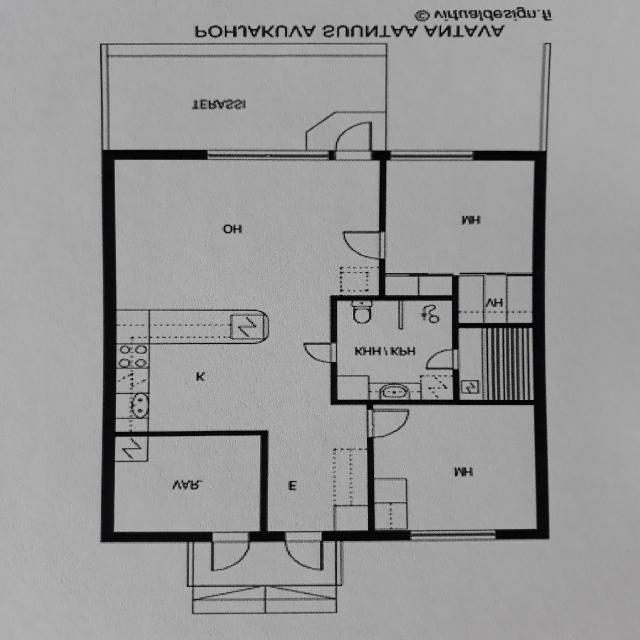door: (286, 530, 324, 568), (212, 530, 250, 568), (335, 123, 371, 159), (342, 230, 385, 258), (368, 411, 410, 437), (305, 342, 338, 362), (427, 350, 459, 369)
